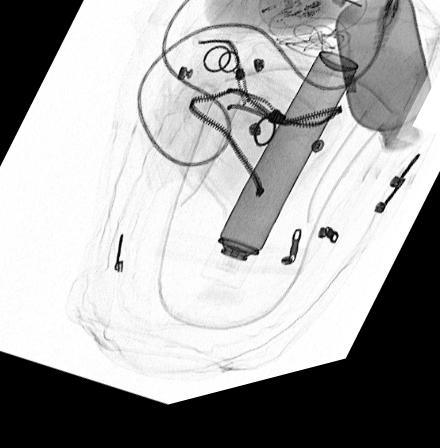Sprayer: (199, 68, 356, 301)
